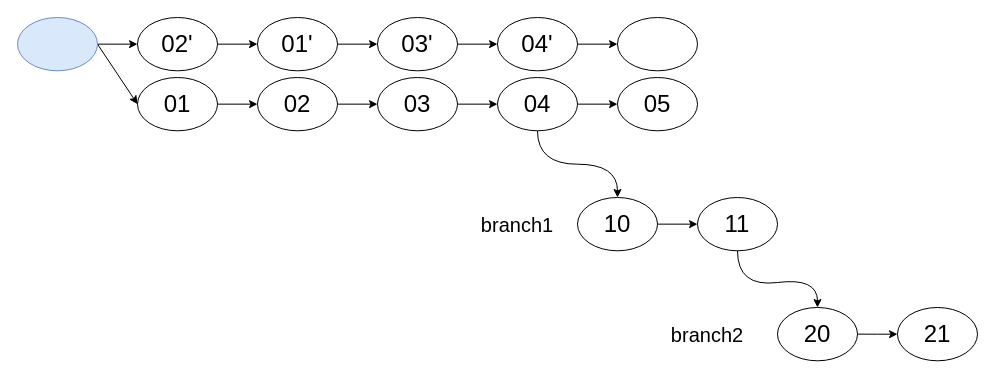
The diagram is 995 pixels wide and 379 high, and some of its shapes have lost their labels. Each missing label, with the centre of its shape:
05' HEAD: pixel 657 43
Initial Checkin: pixel 57 43
